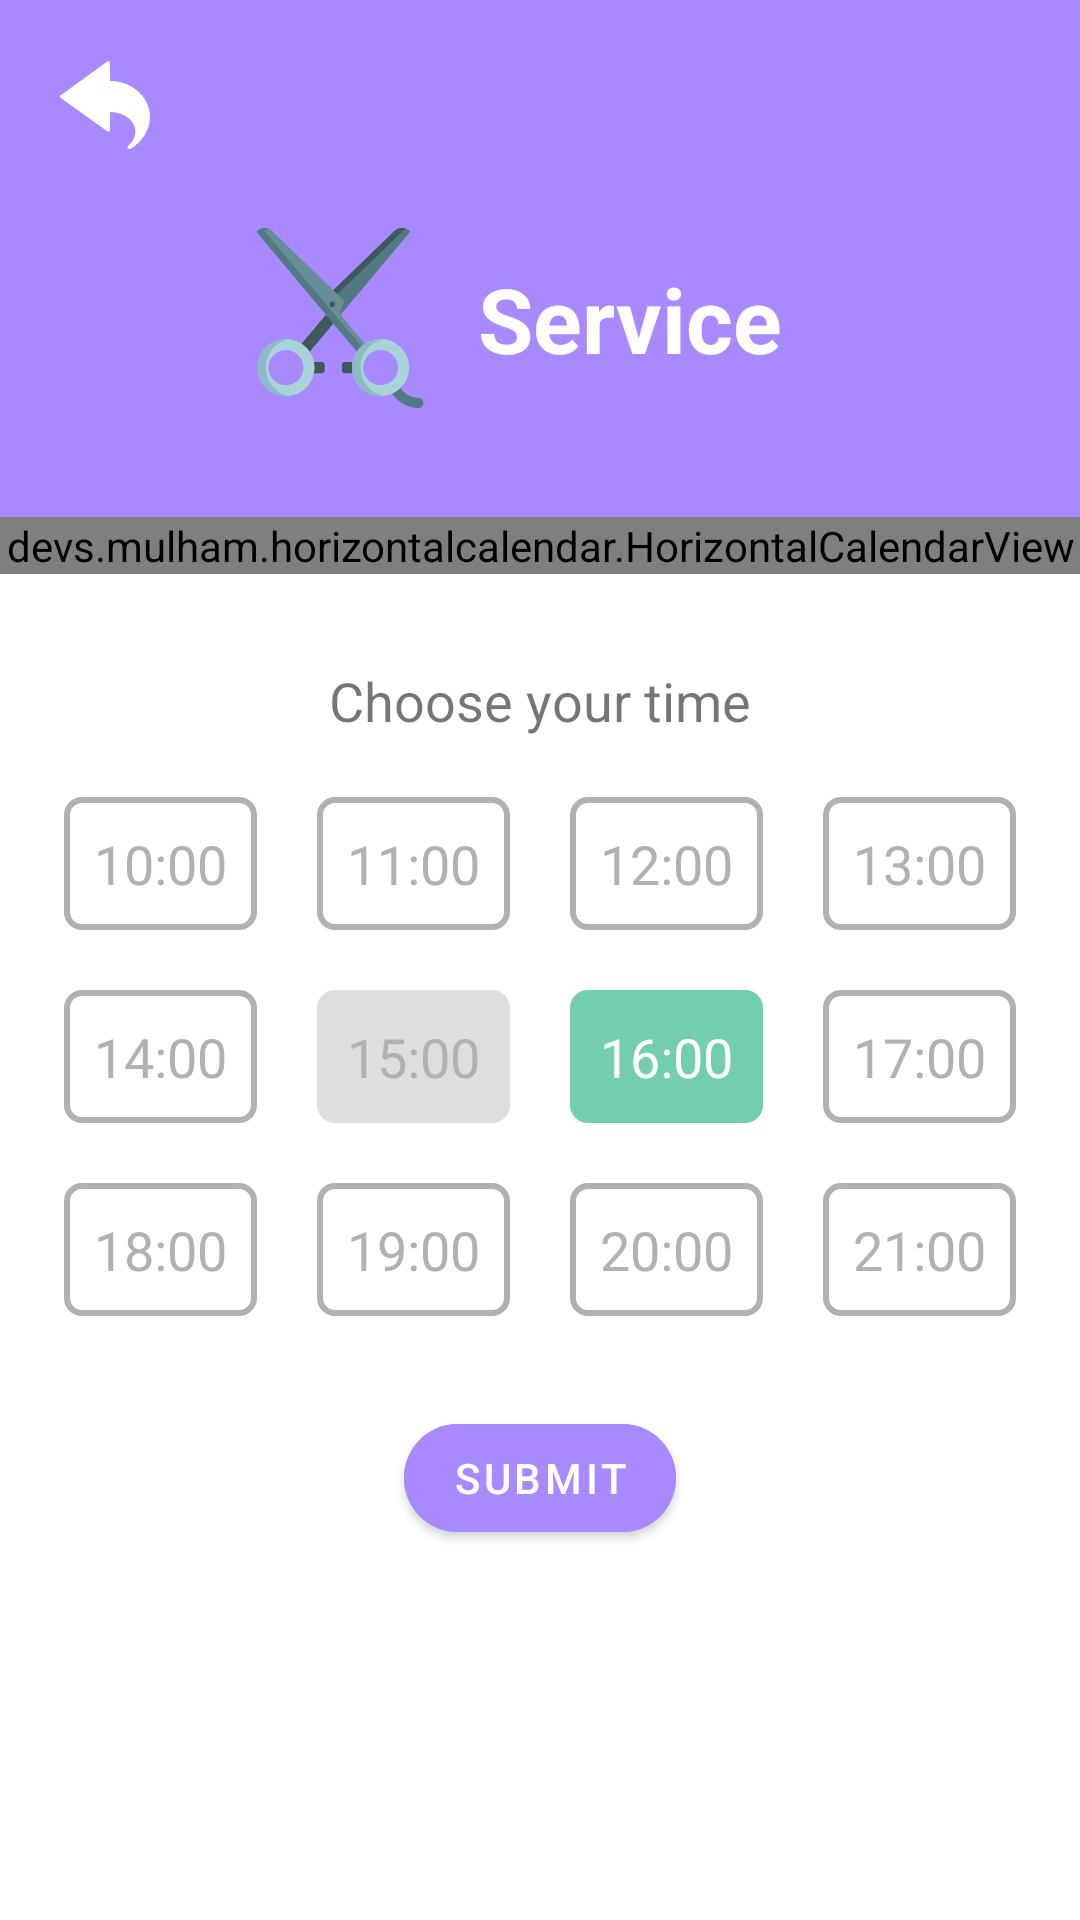

Icons on this 1080px x 1920px Android screen, each with the point to tap as (x=x, y=y):
back: (x=105, y=105)
scissors: (x=340, y=318)
